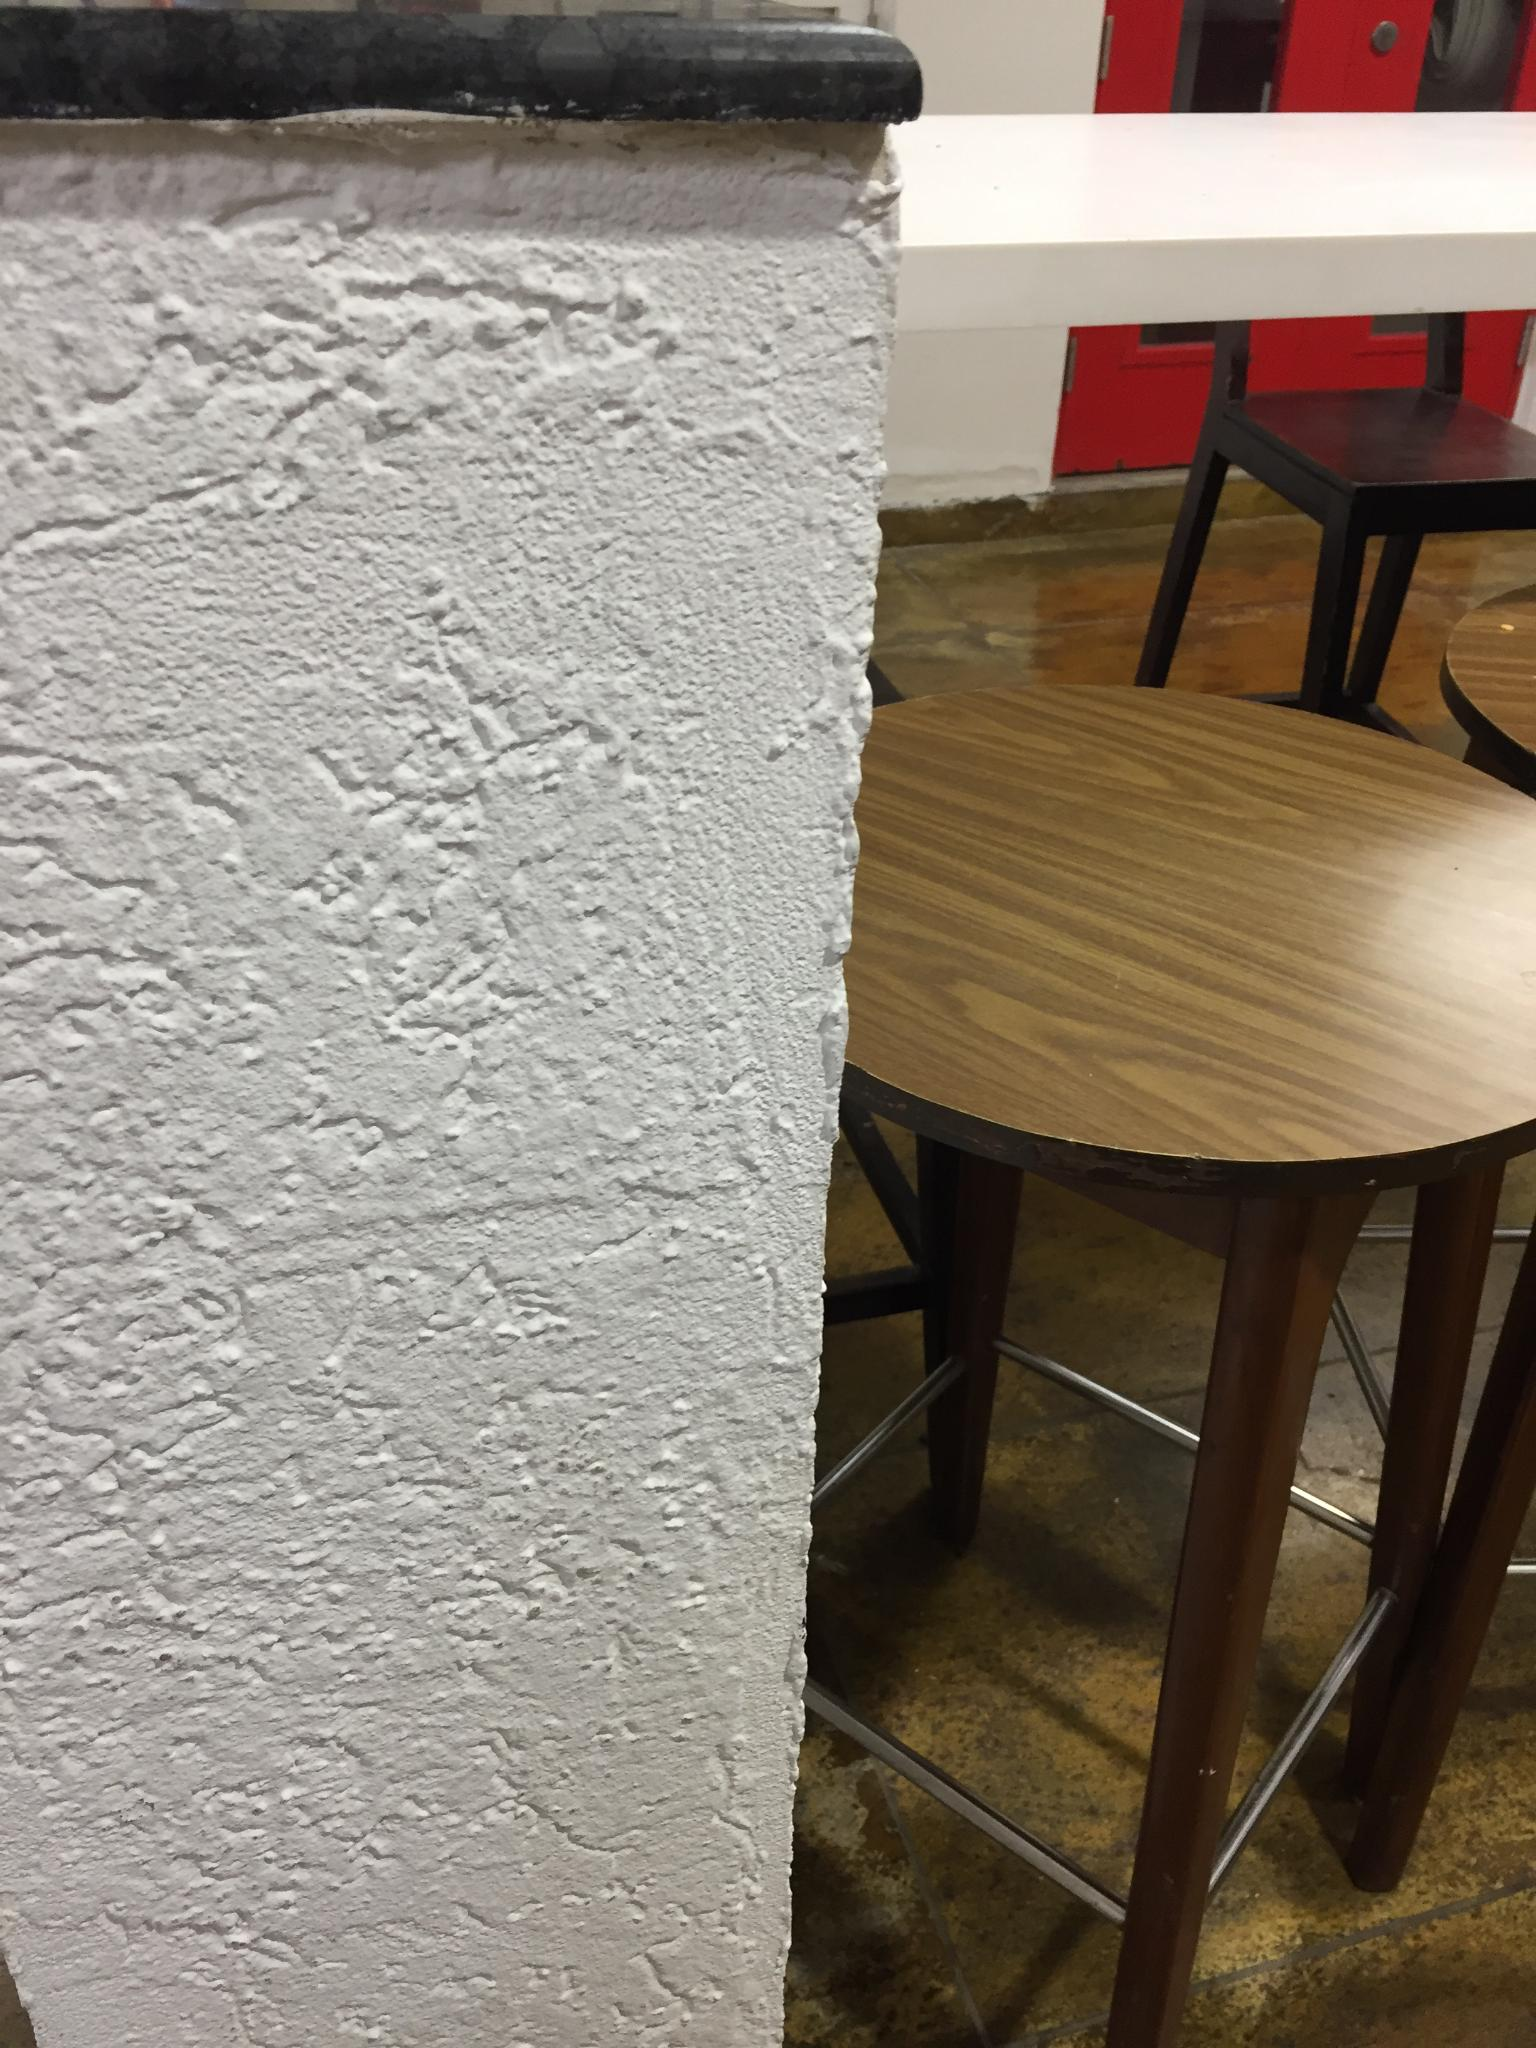chair: (1133, 106, 1536, 714)
